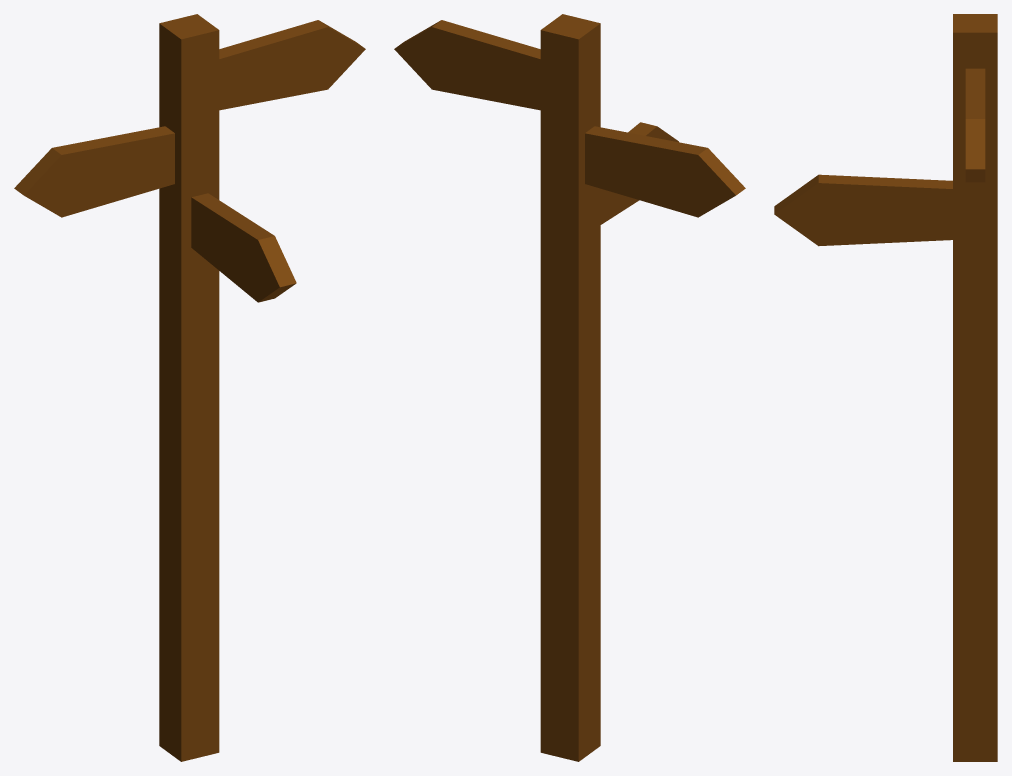
The model's file is pointer.fbx.
3 renders of one model, left to right at view 1: azimuth 30°, elevation 25°; view 2: azimuth 150°, elevation 25°; view 3: azimuth 270°, elevation 25°, orthographic.
Parts seen in each view (by area): view 1: Cube; view 2: Cube; view 3: Cube.
Boxes of the visible parts, left/top/right/bottom form: Cube: left=14, top=14, right=365, bottom=761; Cube: left=394, top=14, right=745, bottom=761; Cube: left=774, top=14, right=997, bottom=761.
Bounding box in the file's own units: 395 × 798 × 221.
